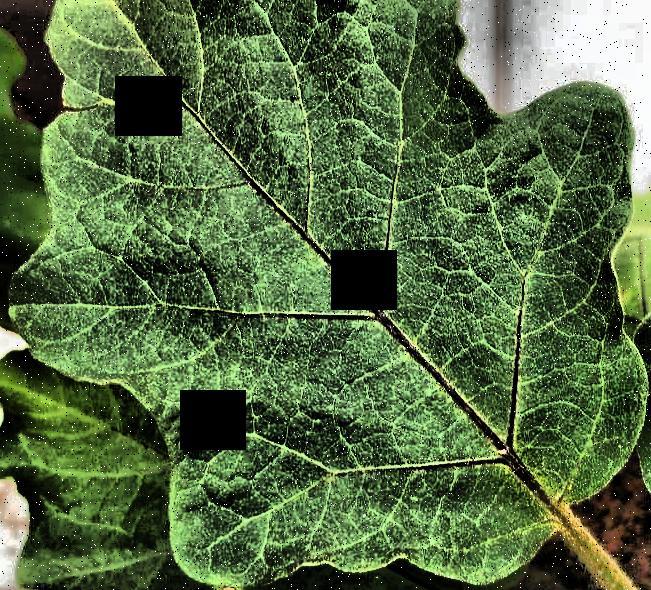HEALTHY: (1, 0, 651, 590)
